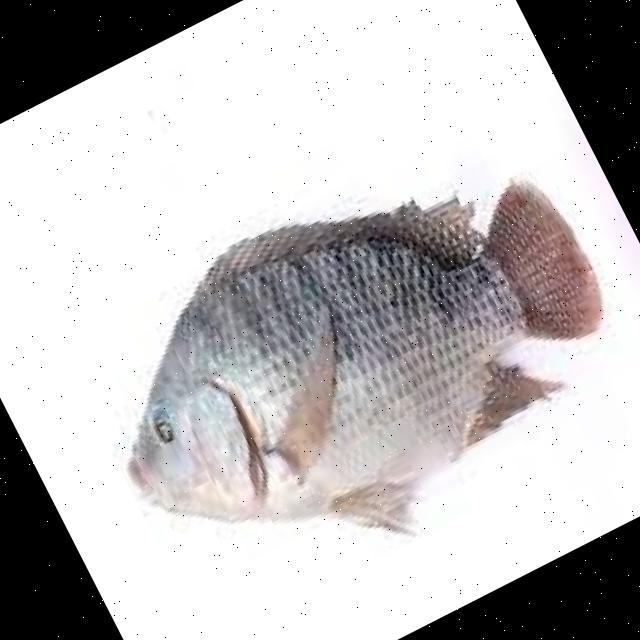ikan: (52, 96, 640, 637)
